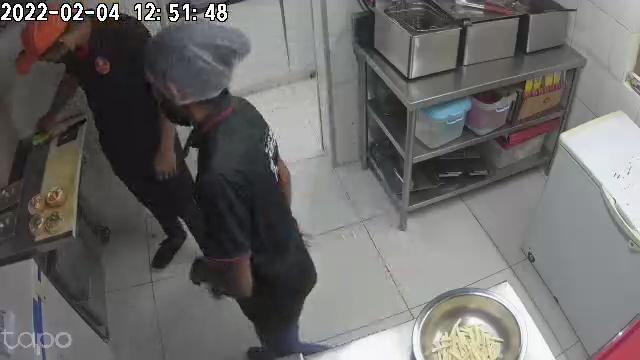no_gloves: (155, 135, 177, 182)
